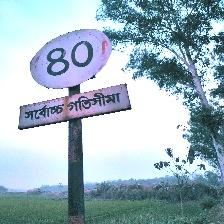Speed-limit: (20, 27, 129, 130)
